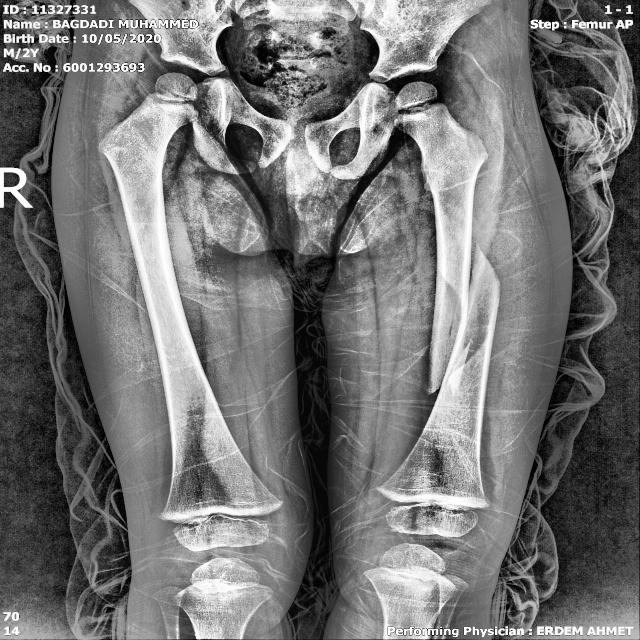Fracture: (419, 220, 510, 415)
